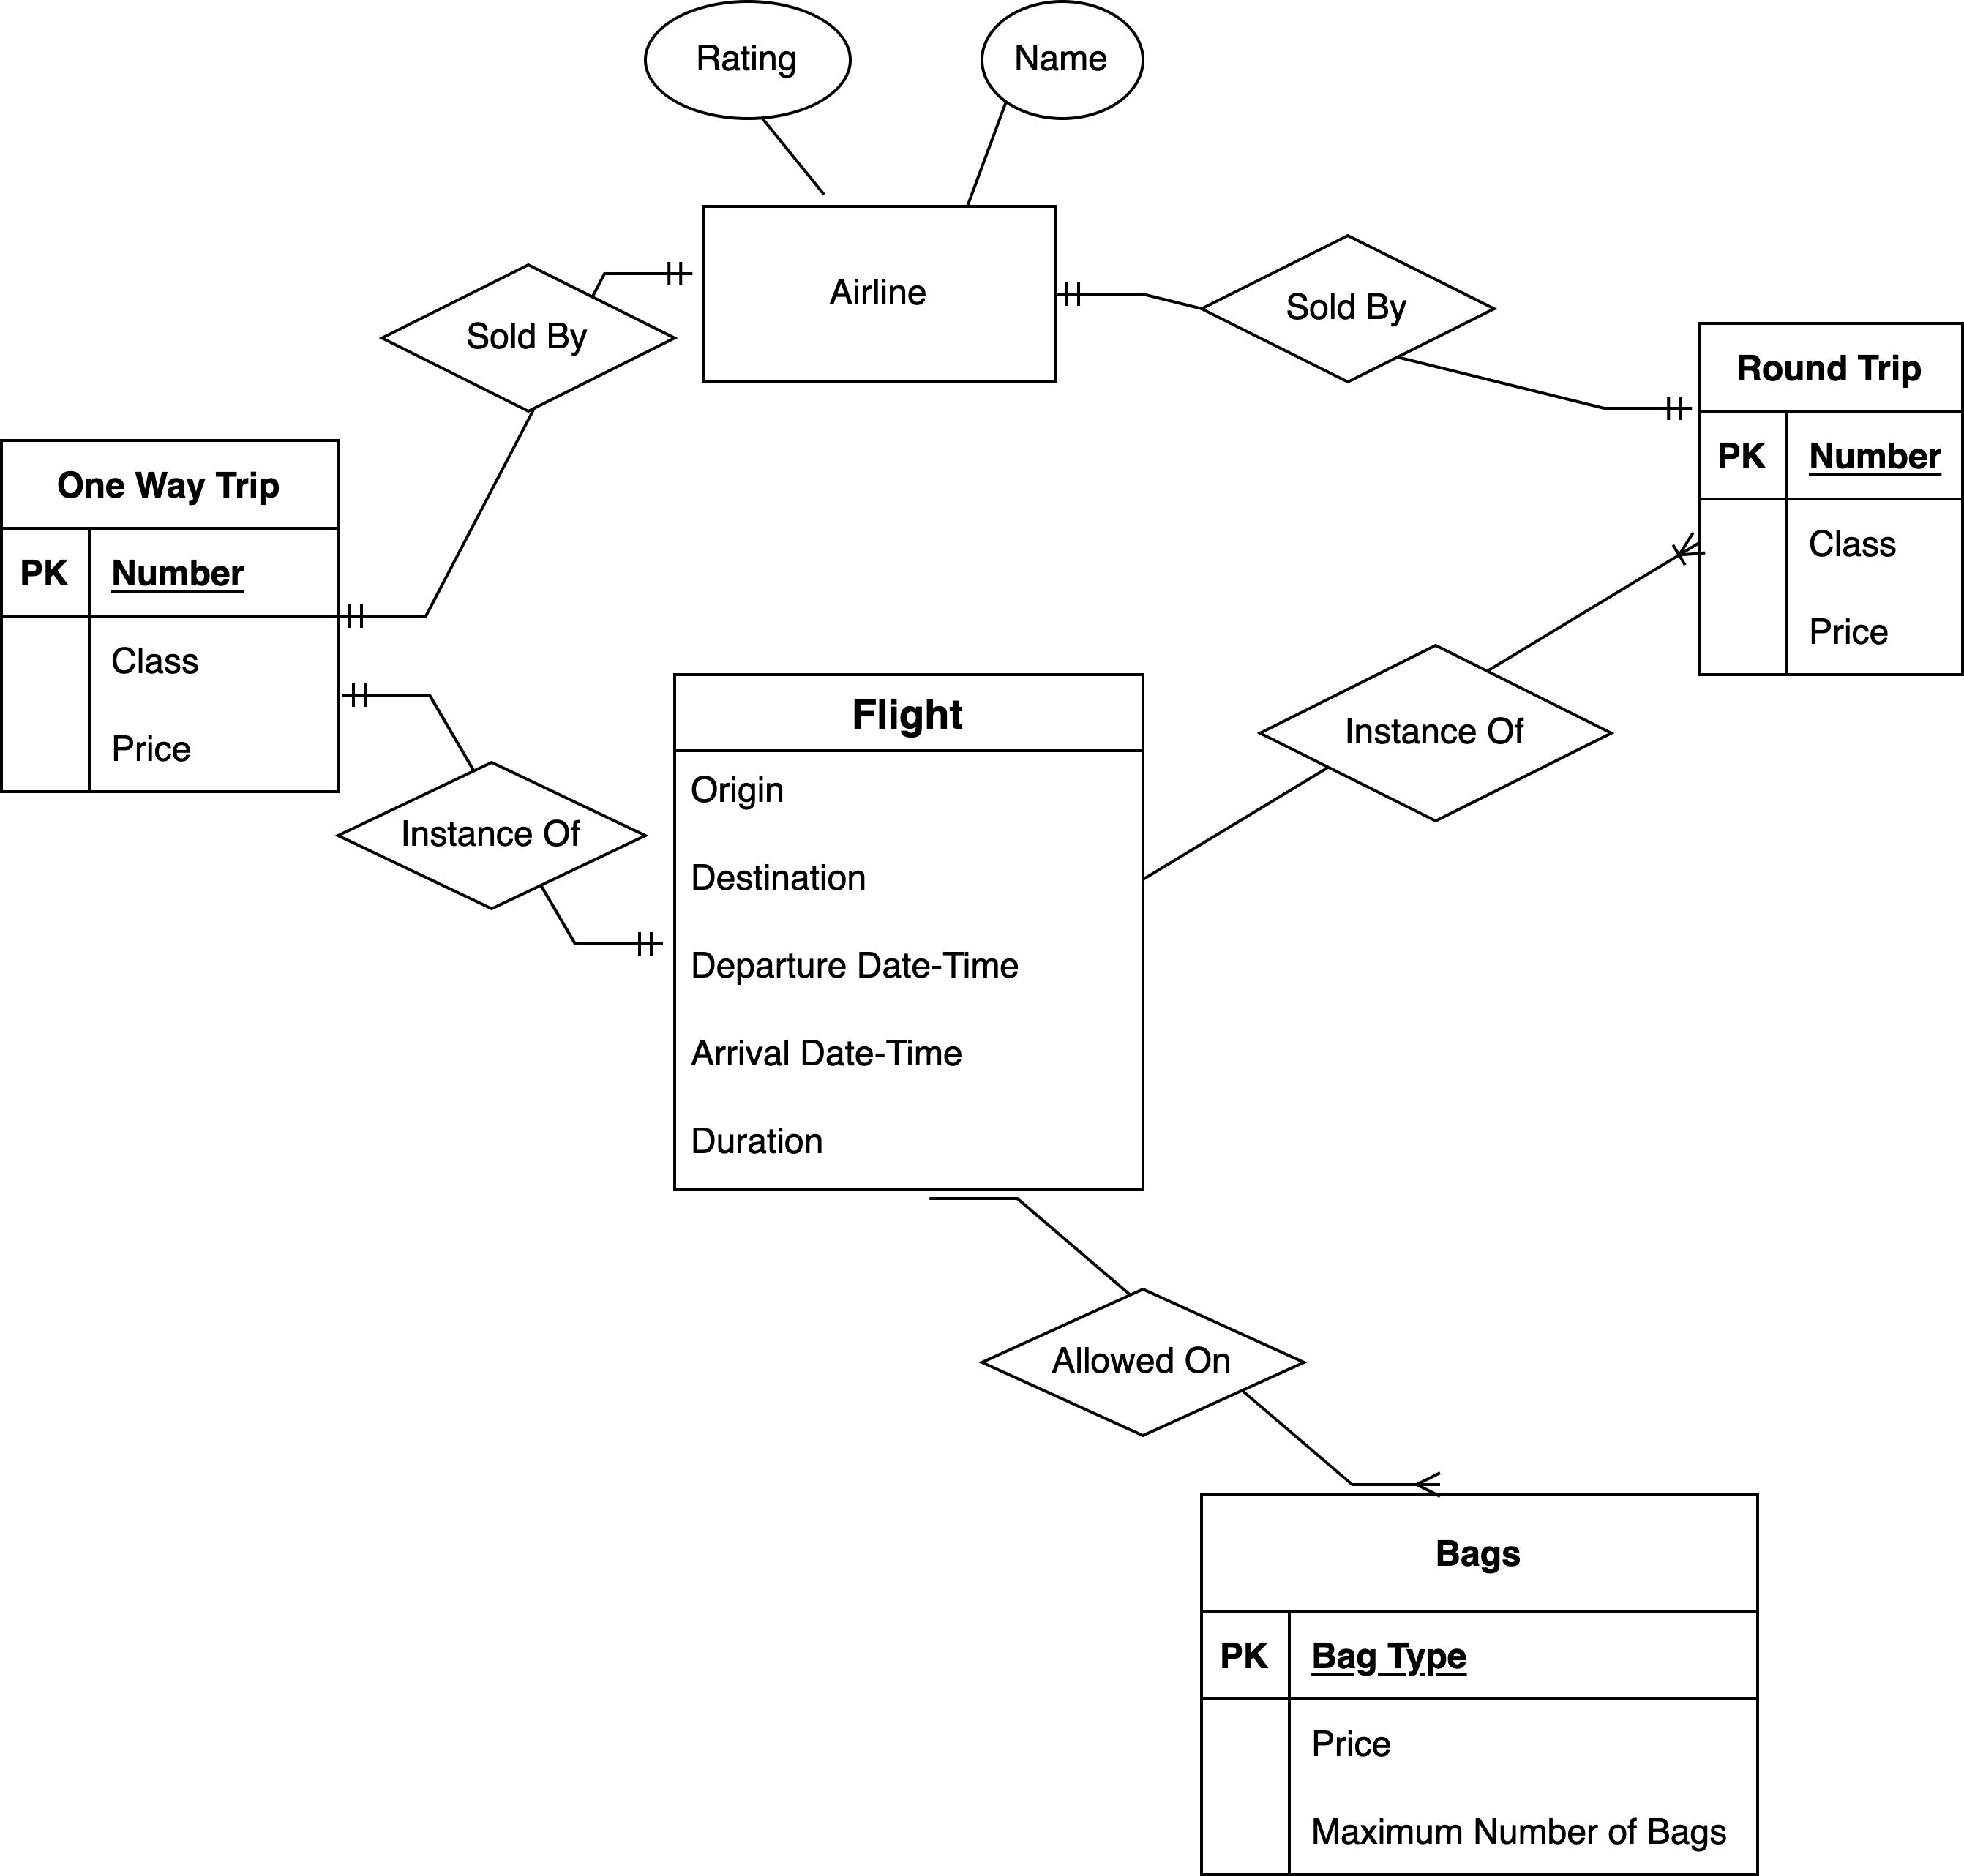attribute: (637, 0, 854, 119), (980, 0, 1152, 117)
entity: (666, 668, 1147, 1197), (1194, 1489, 1764, 1876), (0, 440, 345, 801), (1692, 312, 1964, 684), (700, 191, 1063, 391)
relationship: (1256, 642, 1612, 826), (337, 759, 647, 915), (980, 1287, 1301, 1436), (381, 259, 679, 414), (1199, 228, 1496, 382)
